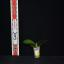leaf: (23, 39, 36, 45), (37, 40, 47, 45), (37, 42, 46, 47), (29, 44, 36, 47), (30, 46, 36, 48), (36, 42, 37, 45)
